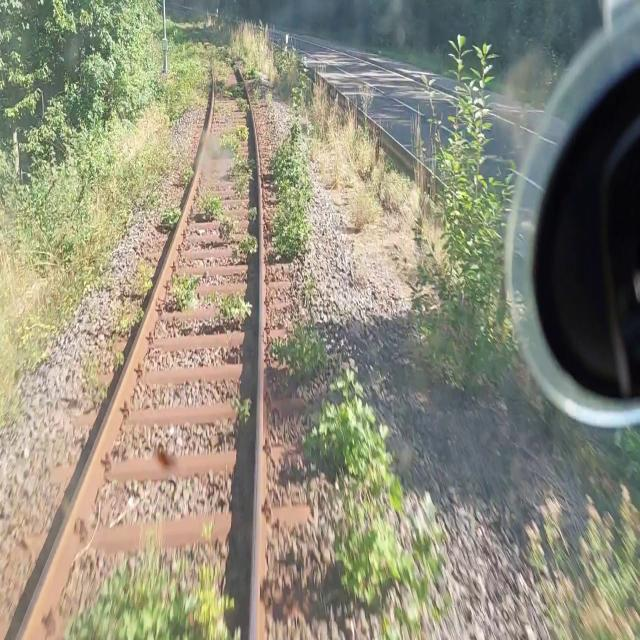Plant: (304, 355, 449, 639), (70, 519, 235, 639), (91, 129, 174, 297), (173, 23, 265, 120), (270, 123, 313, 257), (270, 318, 327, 379), (215, 288, 251, 325), (171, 273, 206, 310), (228, 155, 255, 198), (113, 300, 144, 337), (83, 356, 109, 398), (218, 123, 249, 154), (233, 231, 258, 264), (132, 258, 153, 295), (225, 80, 249, 112), (198, 188, 221, 219), (234, 392, 255, 425), (218, 213, 236, 244), (161, 203, 179, 228), (179, 161, 194, 186), (304, 273, 316, 295), (112, 348, 125, 367), (247, 201, 257, 222), (253, 87, 261, 104), (264, 91, 272, 106)
